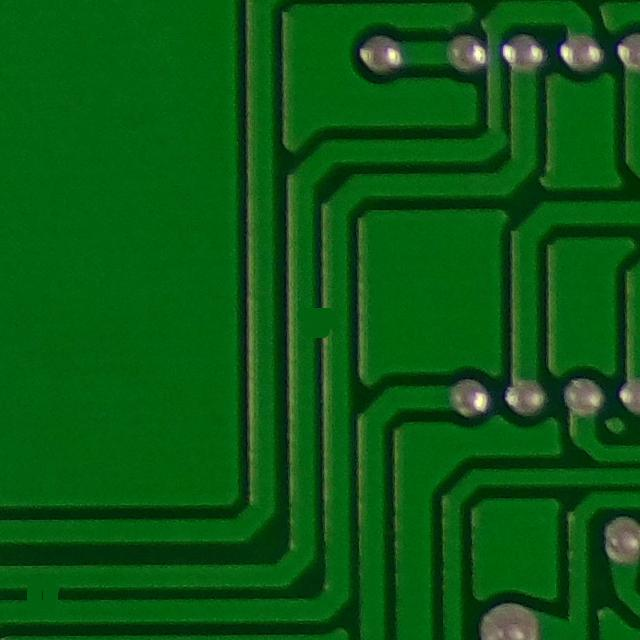short: (282, 288, 358, 353)
